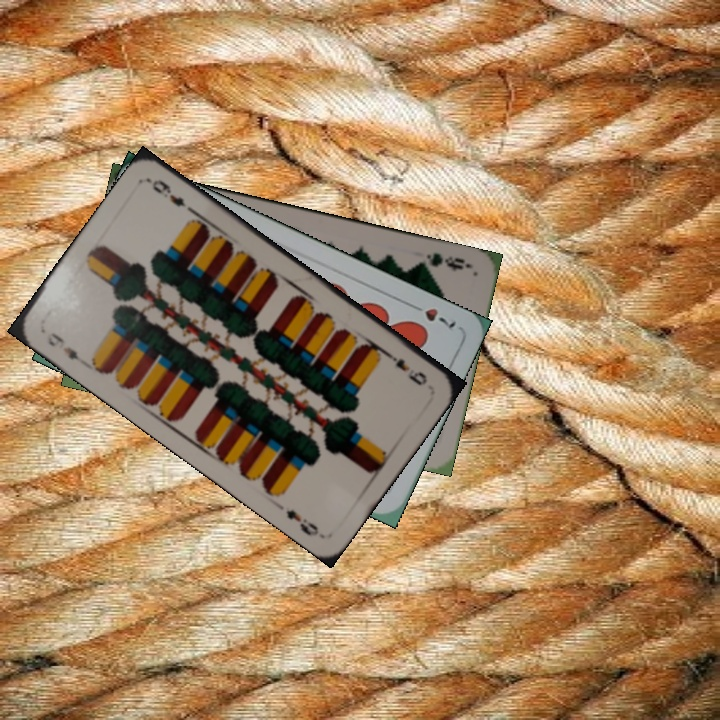E9: (381, 348, 430, 389), (43, 328, 89, 368)
G9: (422, 249, 467, 274)
H7: (405, 299, 459, 331)
